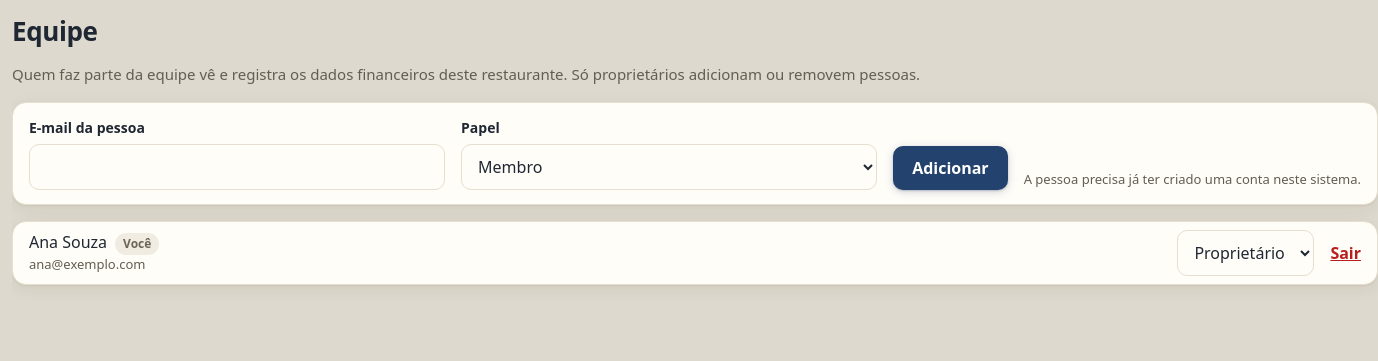
Test: Equipe › mostra o motivo quando não é possível mudar o papel
This screenshot has width=1378, height=361.
Step 1. Select "Membro" in the dropdown named "Papel de Ana Souza" → point(1246, 252), box [1177,230,1314,276]
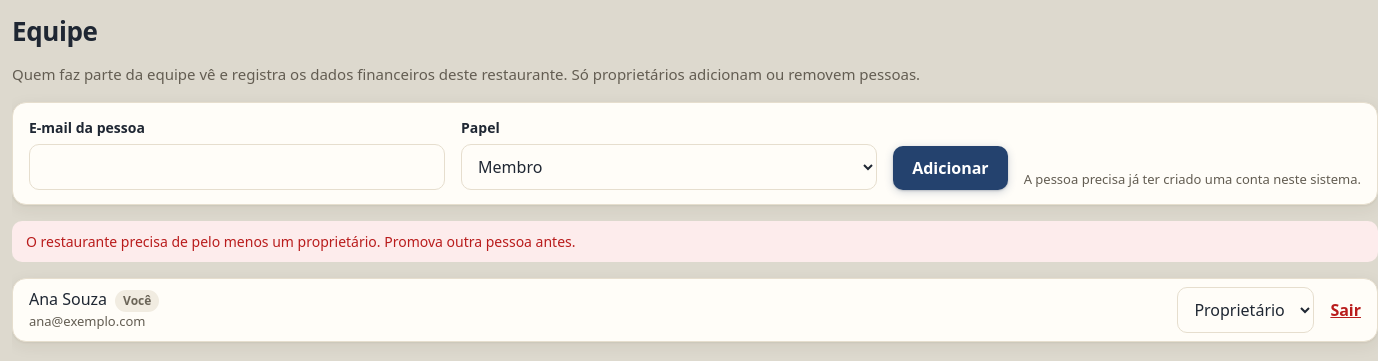
Now the message shows "pelo menos um proprietário", box [26,232,576,250]
